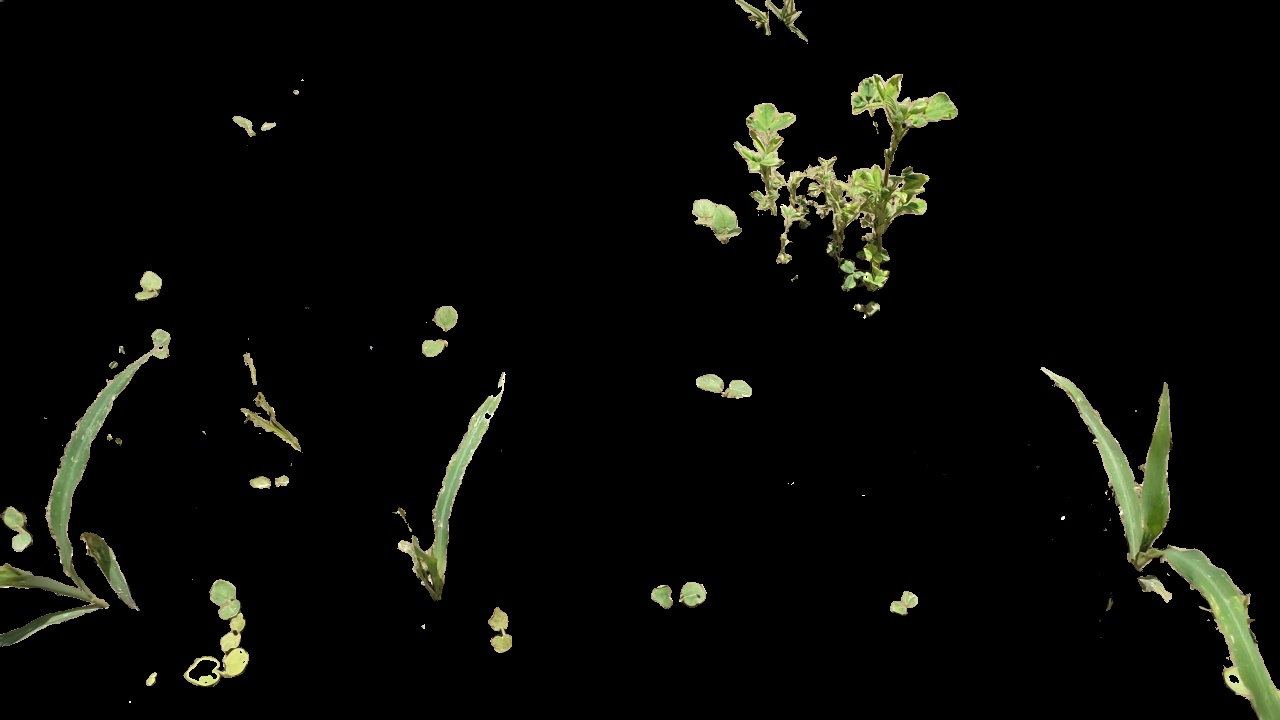crop: (1041, 367, 1280, 718), (41, 351, 155, 630), (381, 381, 509, 607)
weed: (686, 62, 961, 318), (192, 579, 268, 681), (415, 299, 466, 361), (695, 363, 759, 410), (649, 575, 715, 613), (230, 102, 283, 141), (3, 500, 32, 555), (478, 616, 518, 651), (126, 269, 167, 302), (245, 472, 306, 493), (889, 593, 923, 619)
